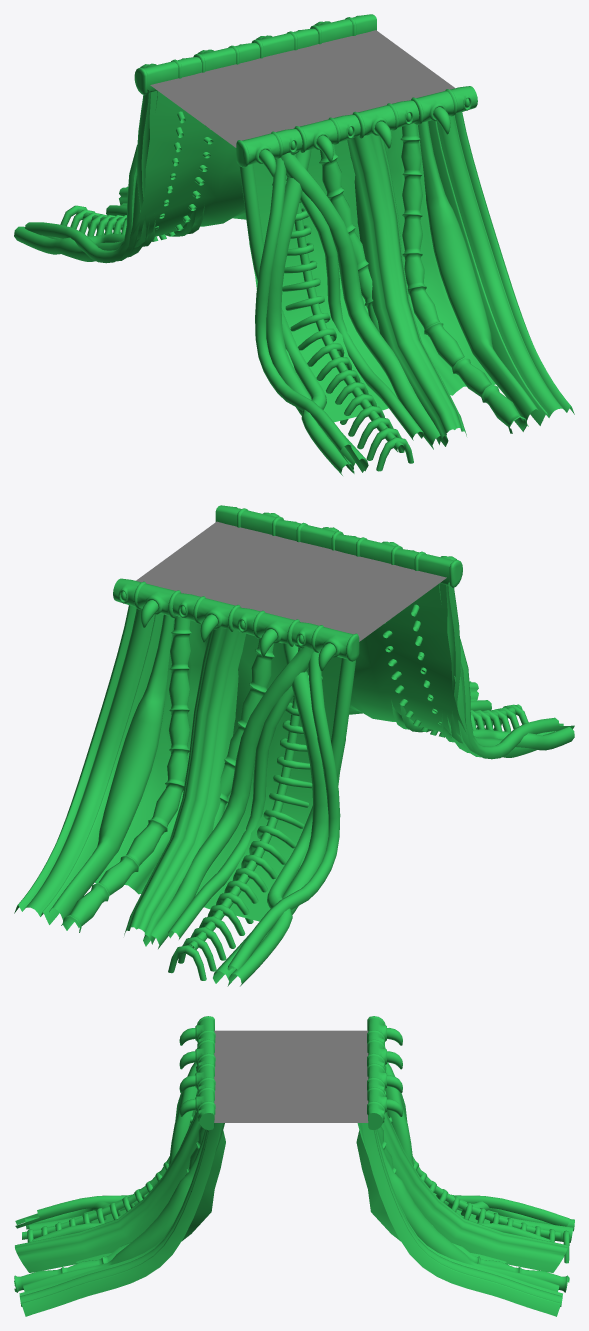
Rendered from Track_alien_02.fbx.
The picture shows the model from 3 angles, top to bottom: view 1: azimuth 30°, elevation 25°; view 2: azimuth 150°, elevation 25°; view 3: azimuth 270°, elevation 25°; orthographic projection. The views are drawn at different scales.
Parts seen in each view (by area): view 1: Object001, Road_001; view 2: Object001, Road_001; view 3: Object001, Road_001.
Part boxes in pixels (x1,y1,x2,y2): Object001: [14, 14, 574, 475]; Road_001: [150, 30, 454, 147]; Object001: [14, 505, 574, 986]; Road_001: [136, 521, 446, 641]; Object001: [14, 1016, 574, 1316]; Road_001: [214, 1030, 368, 1122].
Size of what is drawn, in the model's own units: 3340 by 7697 by 3328.
